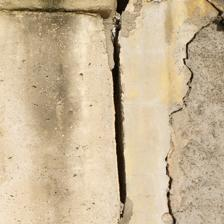Crack: (24, 57, 113, 164), (0, 168, 69, 224), (48, 86, 77, 139)
